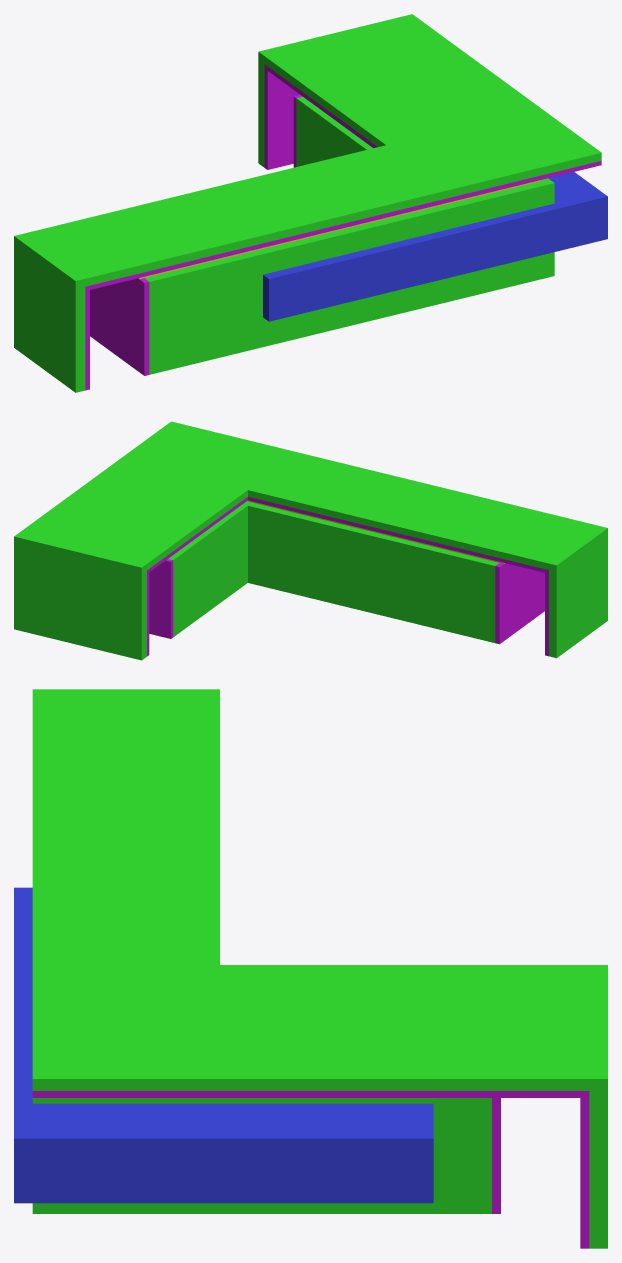
The model's file is Desk_11.fbx.
3 renders of one model, top to bottom at view 1: azimuth 30°, elevation 25°; view 2: azimuth 150°, elevation 25°; view 3: azimuth 270°, elevation 25°, orthographic. The views are drawn at different scales.
Parts seen in each view (by area): view 1: Desk_11; view 2: Desk_11; view 3: Desk_11.
Part boxes in pixels (left/top/right/bottom): Desk_11: left=14, top=14, right=607, bottom=392; Desk_11: left=14, top=421, right=607, bottom=660; Desk_11: left=14, top=689, right=607, bottom=1248.
Bounding box in the file's own units: 450 × 91.44 × 290.
